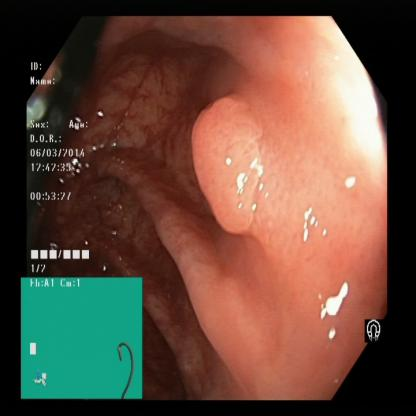Labels: (29, 52, 138, 278), (22, 278, 141, 398), (357, 299, 390, 347)
Polyps: (176, 97, 272, 238)
